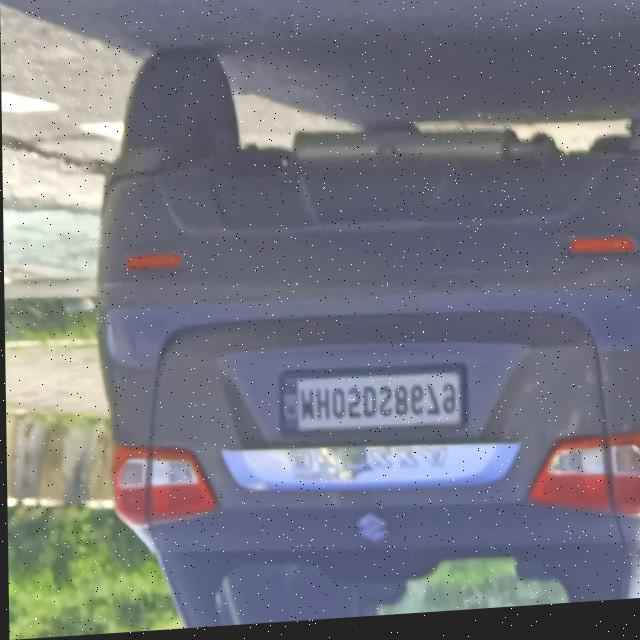plate: (273, 358, 473, 450)
